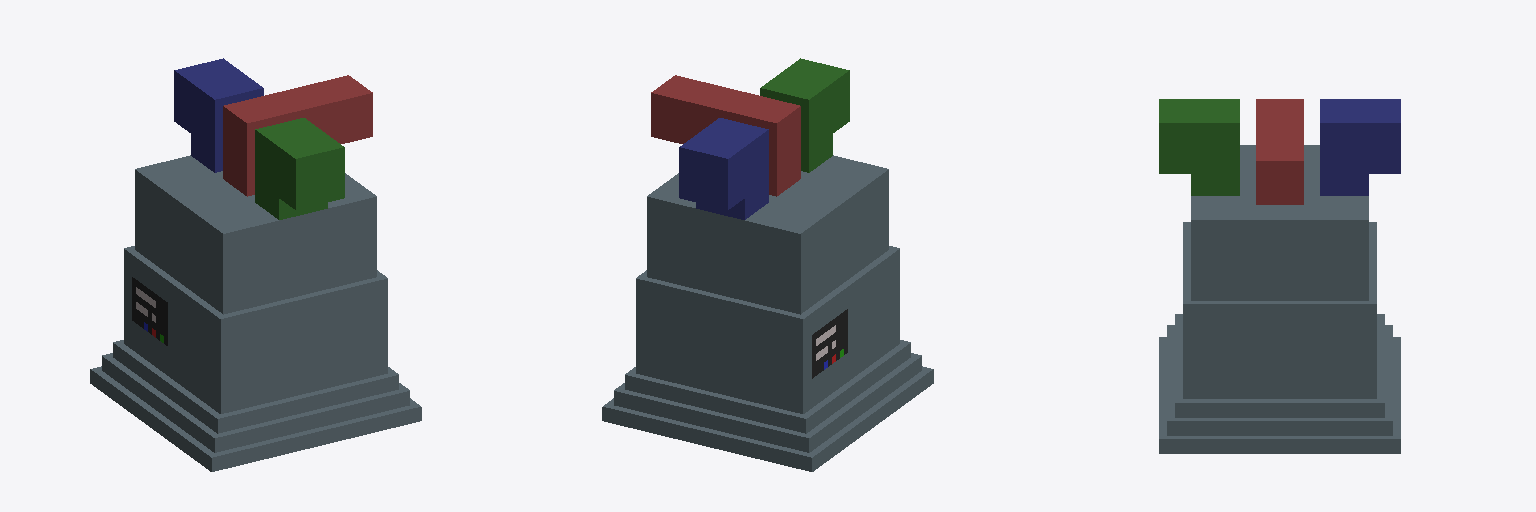
3 renders of one model, left to right at view 1: azimuth 30°, elevation 25°; view 2: azimuth 150°, elevation 25°; view 3: azimuth 270°, elevation 25°, orthographic.
Parts seen in each view (by area): view 1: object 1; view 2: object 1; view 3: object 1.
Boxes of the visible parts, x1=… form: object 1: x1=90, y1=58, x2=421, y2=471; object 1: x1=602, y1=58, x2=933, y2=471; object 1: x1=1159, y1=99, x2=1400, y2=453.
Size of the model in its own units: 3 by 4 by 3.
1 materials, 1 textured.